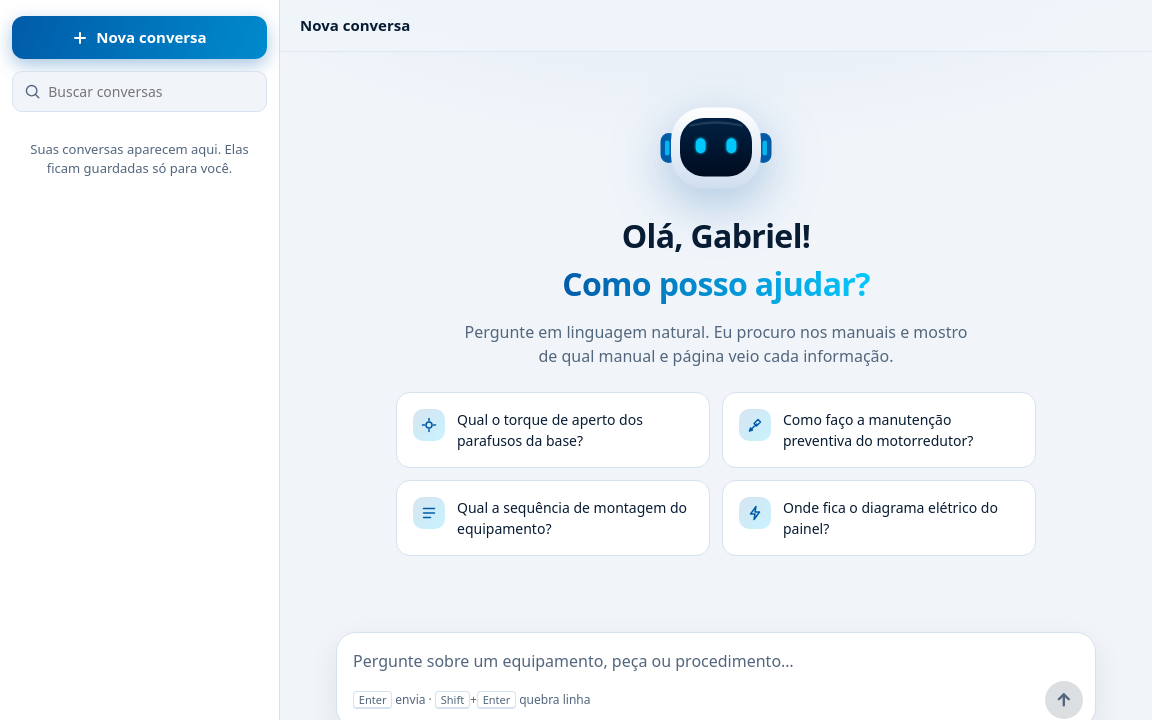
it: <ChatPage /> › shows progress while waiting and lets the user stop
This screenshot has width=1152, height=720.
Type "Qual a pressão?" into the text box named "sua pergunta" at x=718, y=661, box x1=353 y1=645 x2=1083 y2=677
Then press Enter
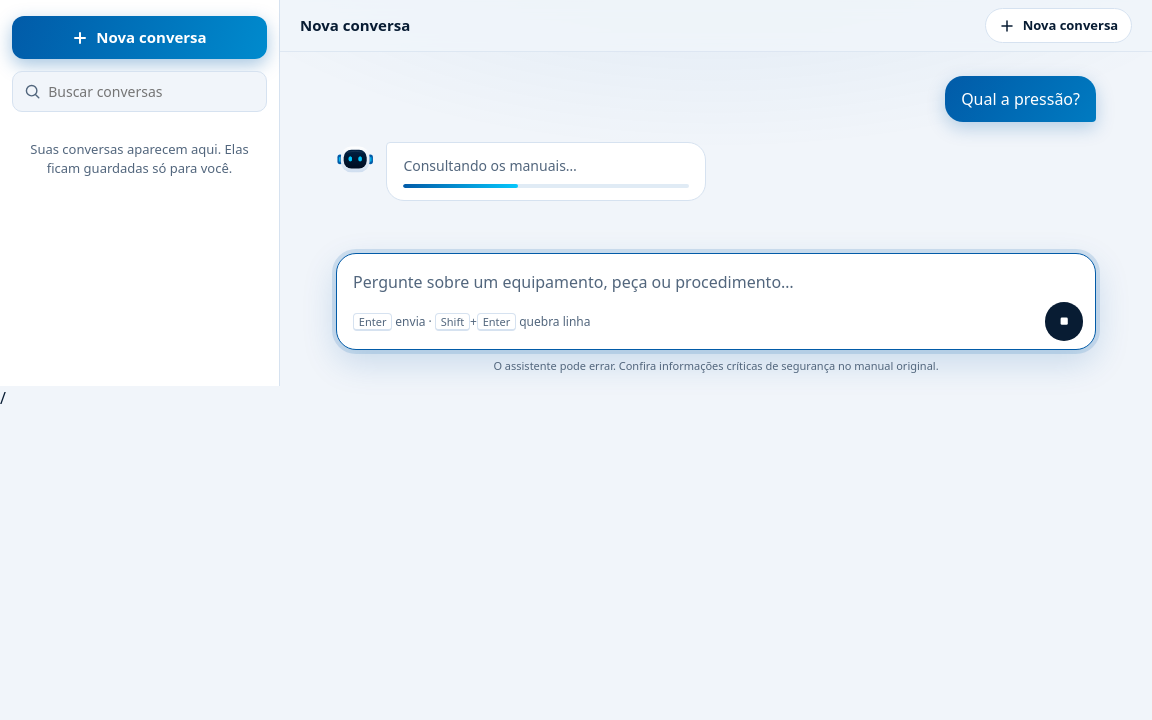
Check: the text "Consultando os manuais…" is shown, box x1=403 y1=156 x2=577 y2=175
Click the button named "Parar resposta" at x=1064, y=322, box x1=1045 y1=302 x2=1083 y2=341
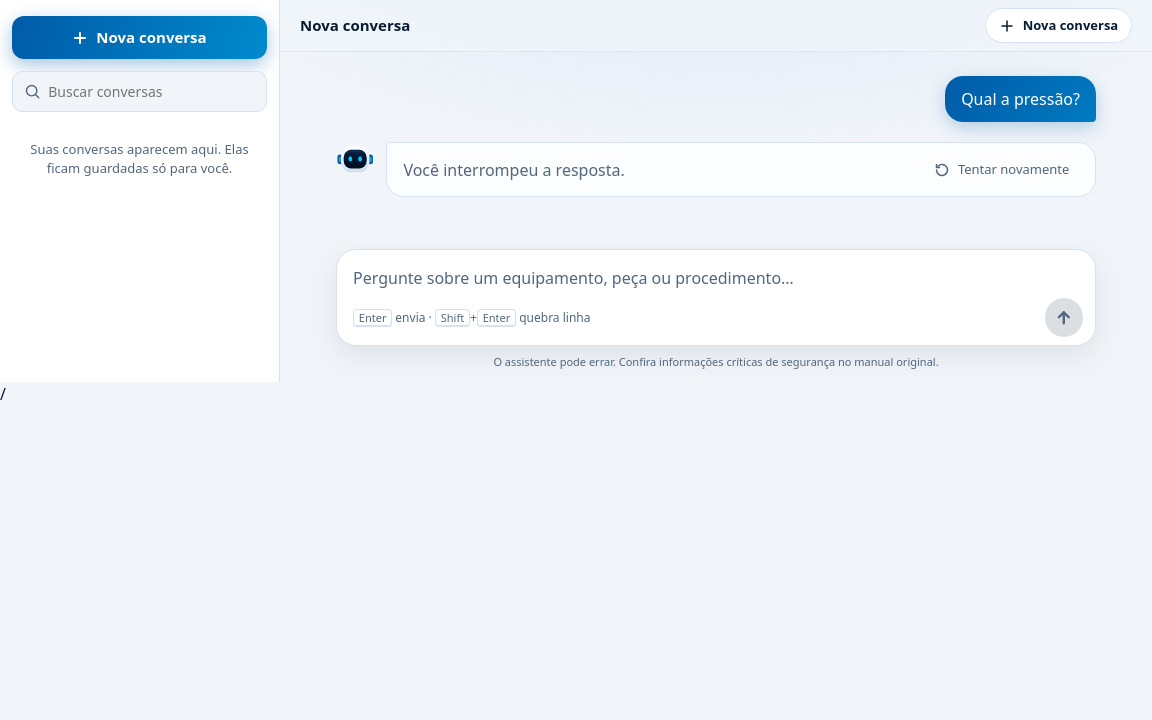
Check: the text "Consultando os manuais…" is gone
Check: the message shows "Você interrompeu a resposta.", box x1=403 y1=159 x2=625 y2=181
Check: the button named "Perguntar" is shown, box x1=1045 y1=298 x2=1083 y2=337
